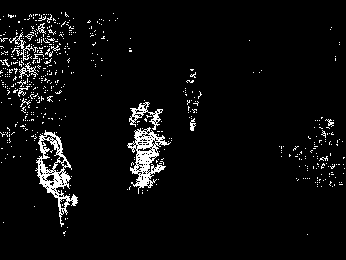person: (35, 130, 80, 232), (182, 66, 202, 134)
